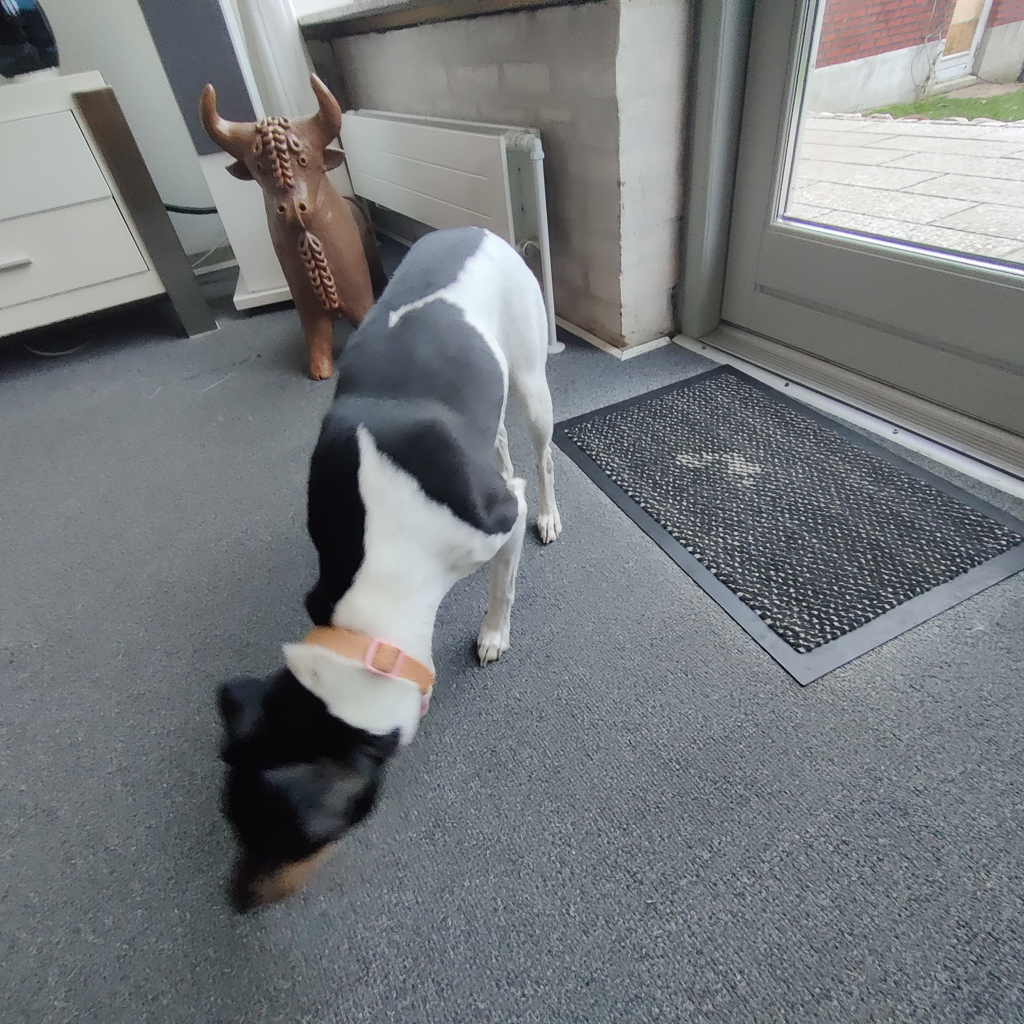Cattle: (194, 62, 395, 390)
Dog: (154, 215, 602, 935)
